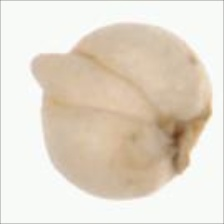L5: (24, 46, 163, 126), (160, 104, 214, 178)
L6: (23, 22, 215, 202)
